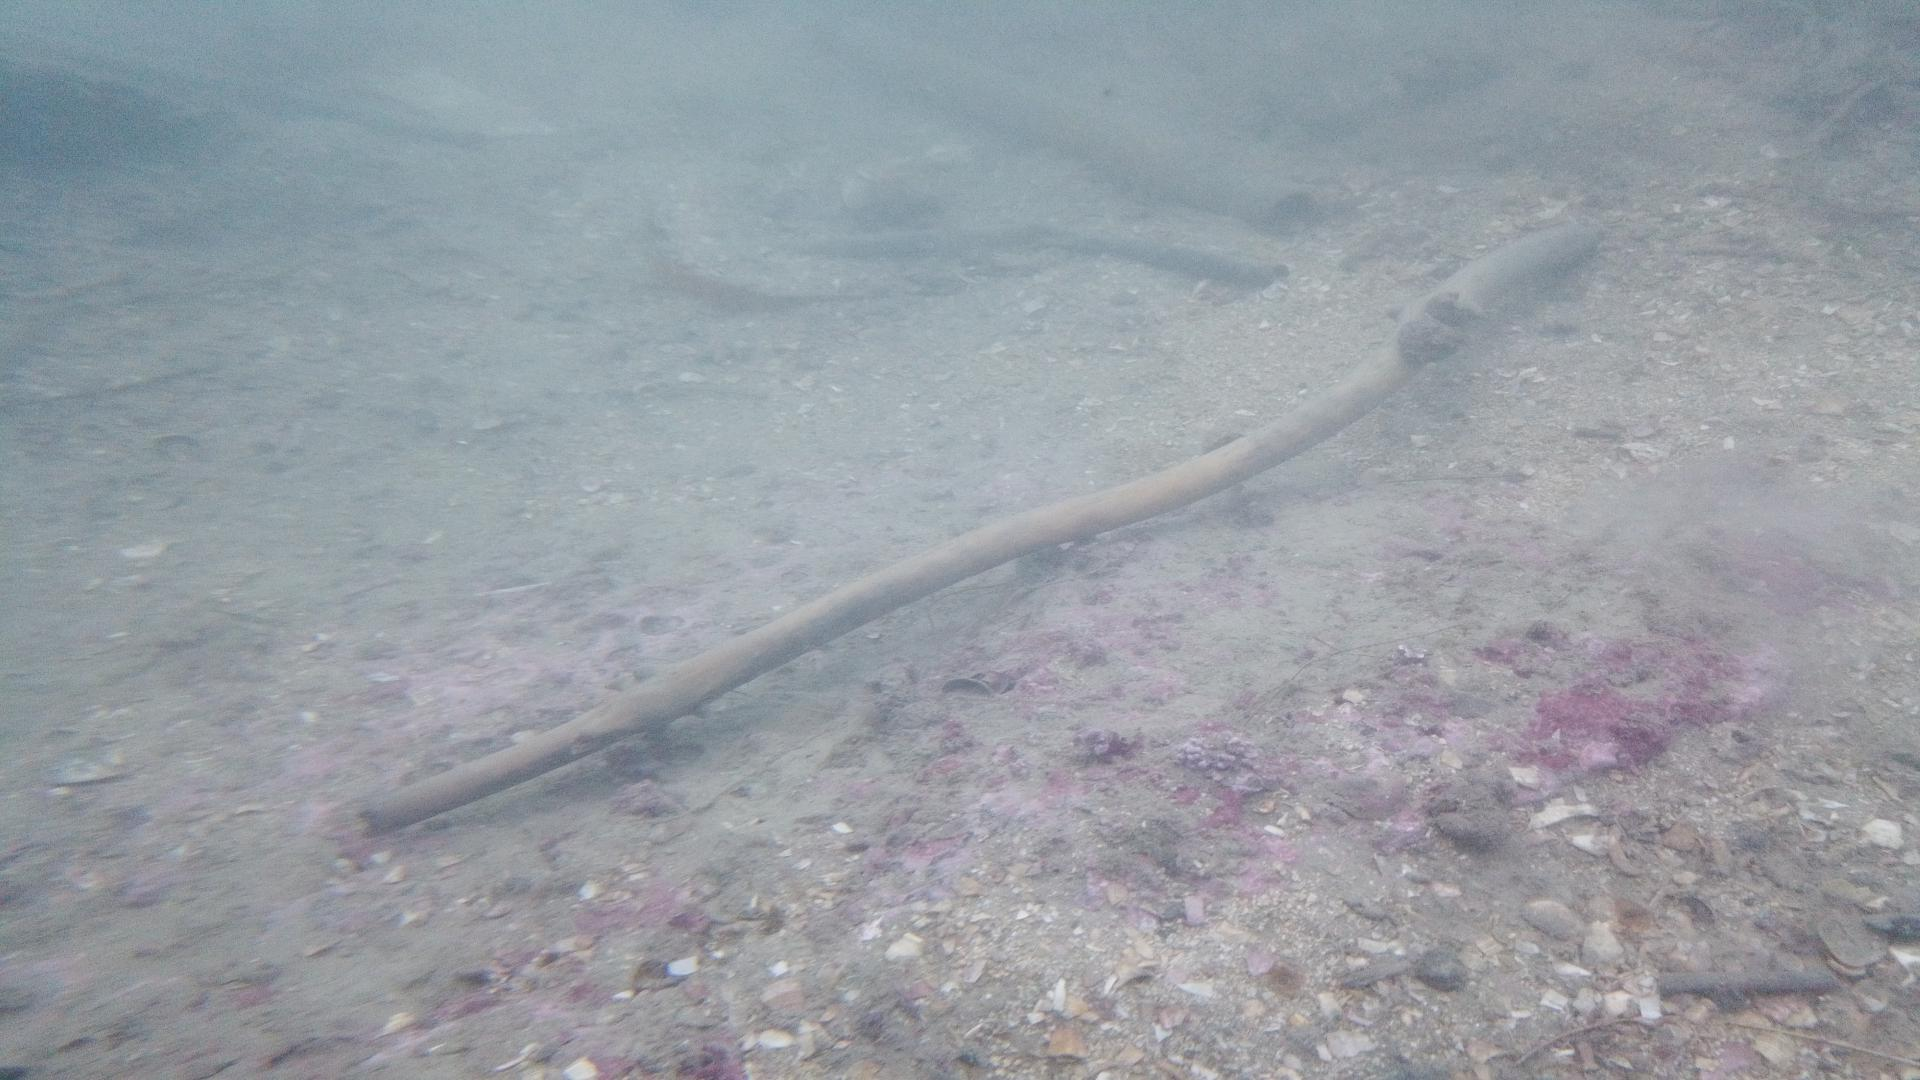wood: (356, 219, 1604, 836)
